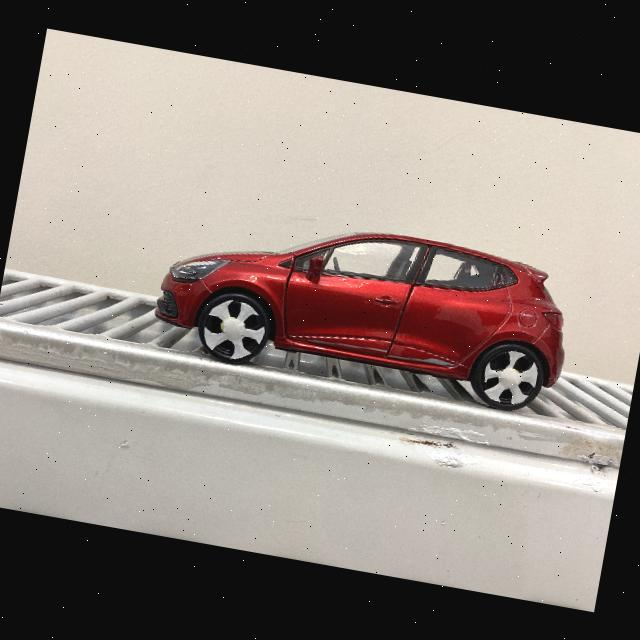Yanlis_Jant: (200, 295, 270, 364), (478, 346, 542, 408)
